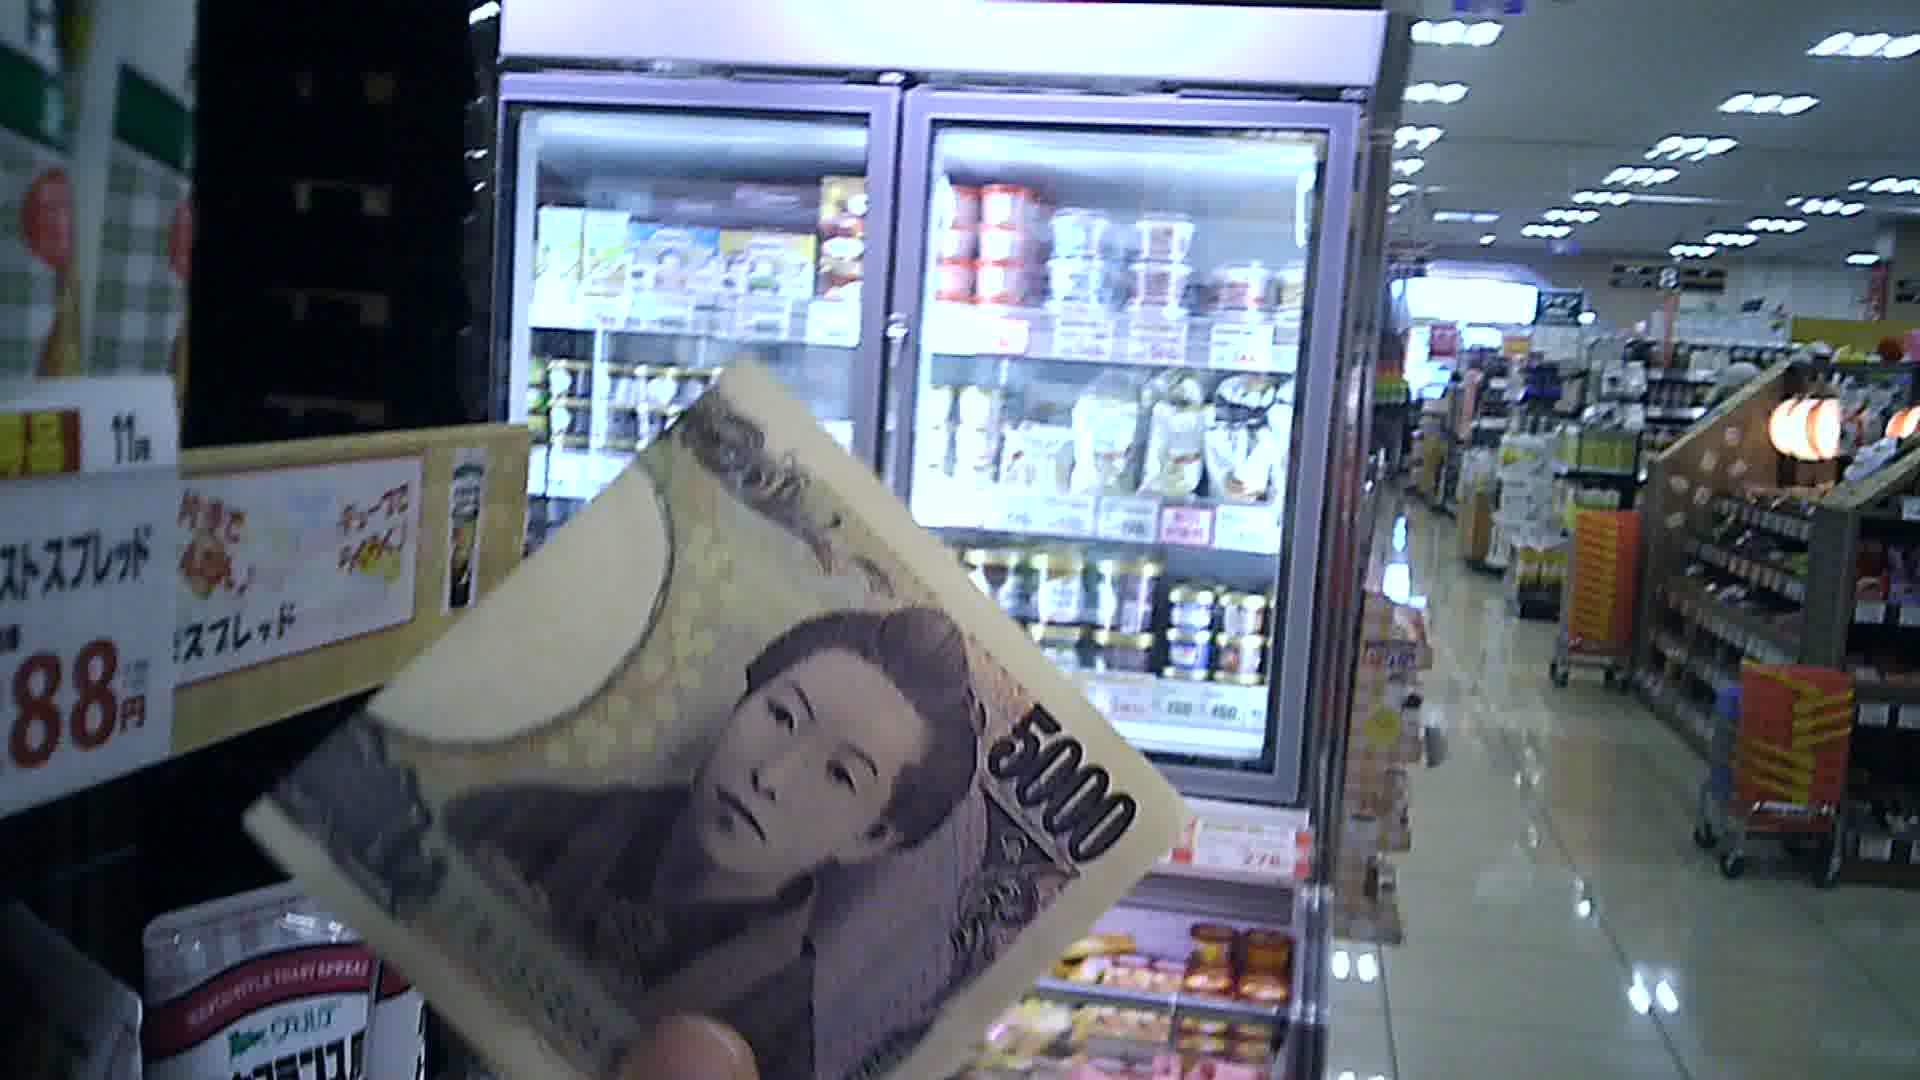5,000 Yen: (229, 369, 1164, 1073)
